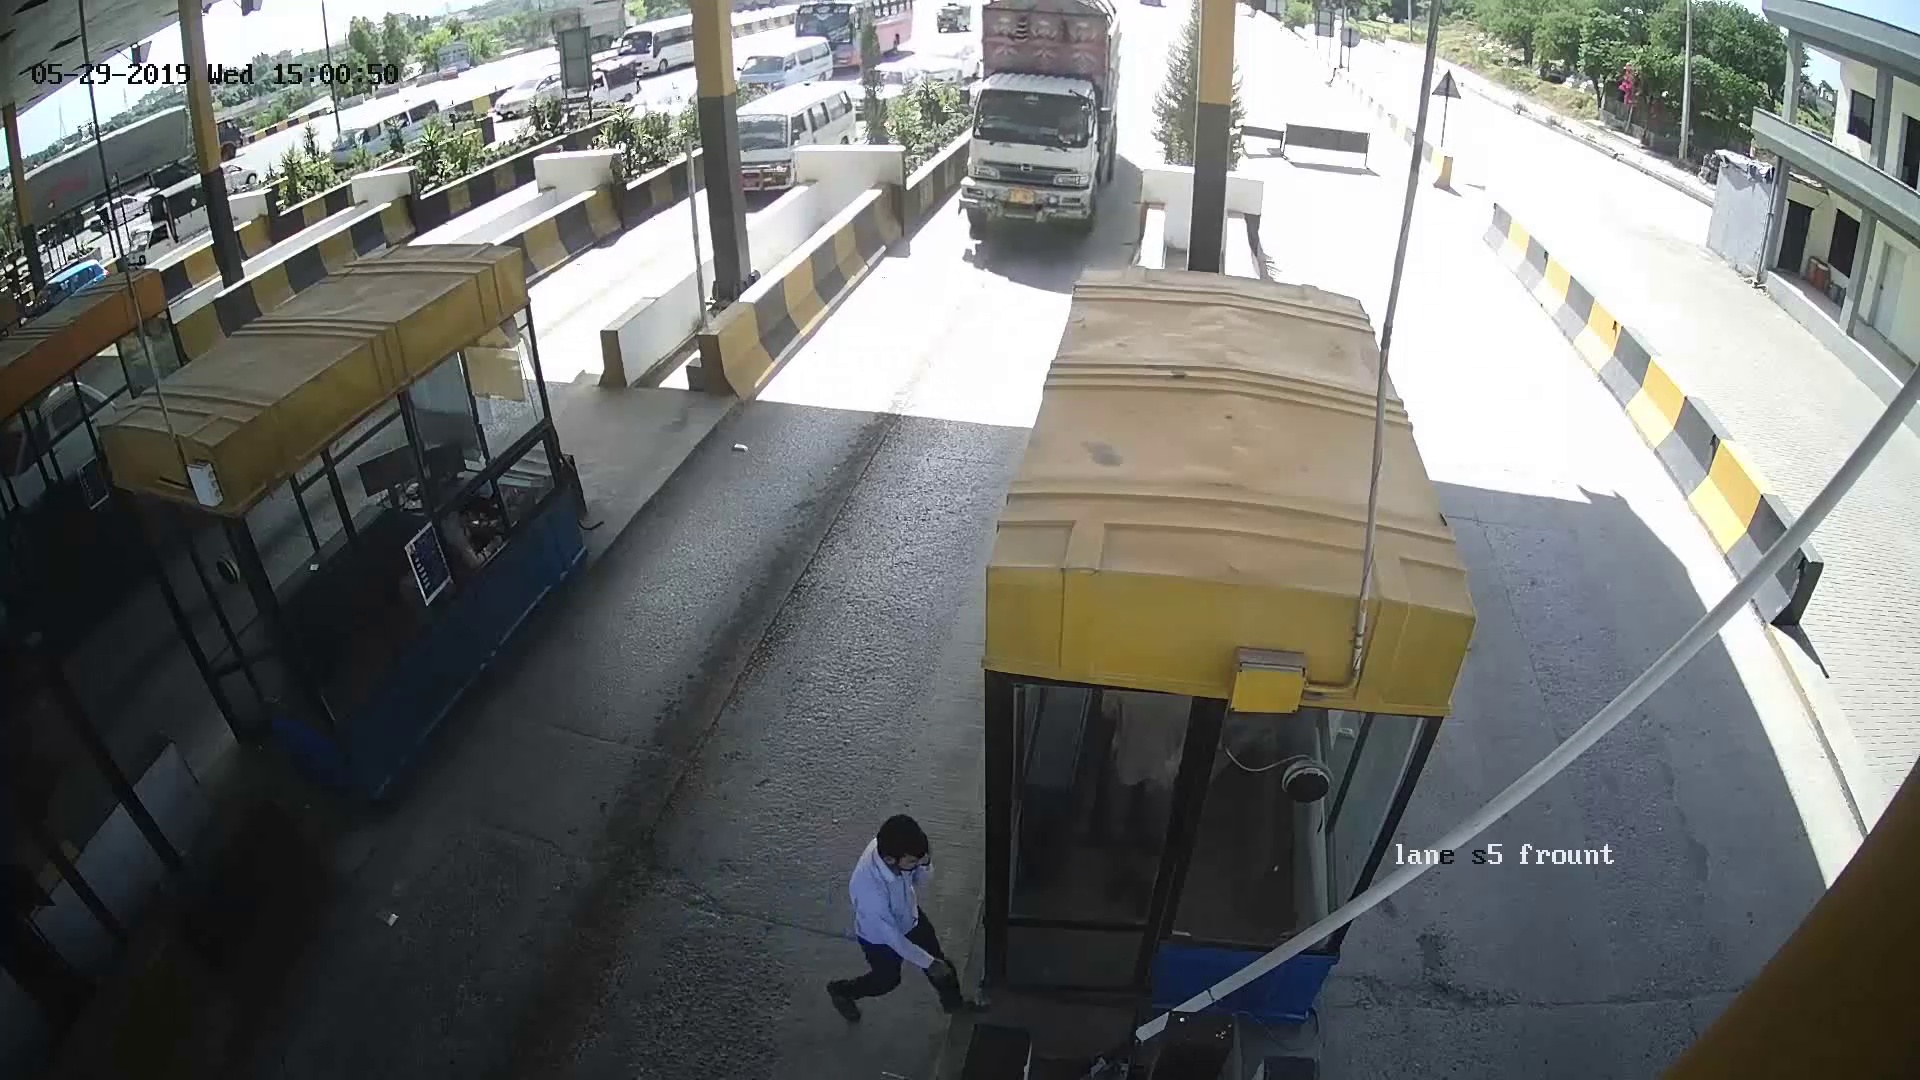truck: (945, 3, 1116, 237)
